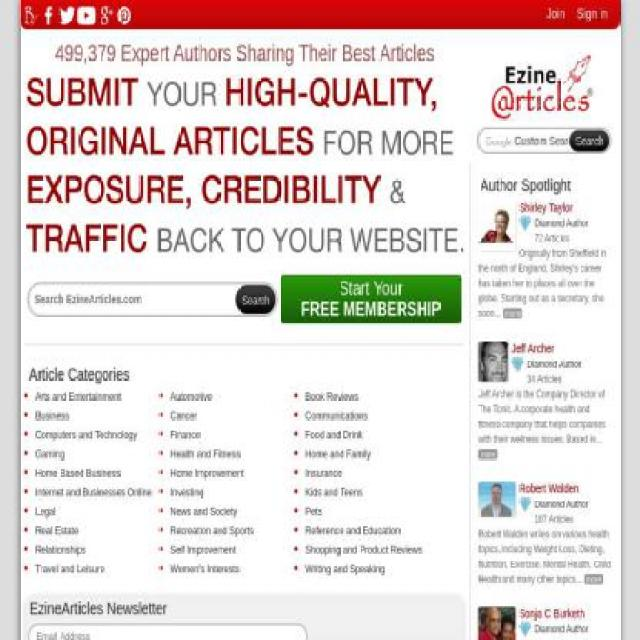button: (280, 274, 462, 324), (36, 387, 162, 407), (170, 387, 296, 407), (306, 387, 432, 407), (36, 406, 162, 426), (170, 406, 296, 426), (306, 406, 432, 426), (36, 426, 162, 446), (170, 426, 296, 446), (306, 426, 432, 446), (36, 444, 162, 464), (170, 444, 296, 464), (306, 444, 432, 464), (36, 463, 162, 483), (170, 463, 296, 483), (306, 463, 432, 483), (36, 482, 162, 502), (170, 482, 296, 502), (306, 482, 432, 502), (36, 502, 162, 522), (170, 502, 296, 522), (306, 502, 432, 522), (36, 521, 162, 541), (170, 521, 296, 541), (306, 521, 432, 541), (36, 540, 162, 560), (170, 540, 296, 560), (306, 540, 432, 560), (36, 559, 162, 579), (170, 559, 296, 579), (306, 559, 432, 579), (478, 200, 516, 252), (478, 480, 516, 517), (236, 284, 276, 316), (478, 607, 517, 639), (478, 341, 508, 382), (569, 130, 609, 153), (502, 308, 522, 320), (478, 448, 498, 459), (583, 573, 603, 584)
field: (34, 283, 221, 312), (29, 624, 308, 639), (485, 129, 597, 149)
